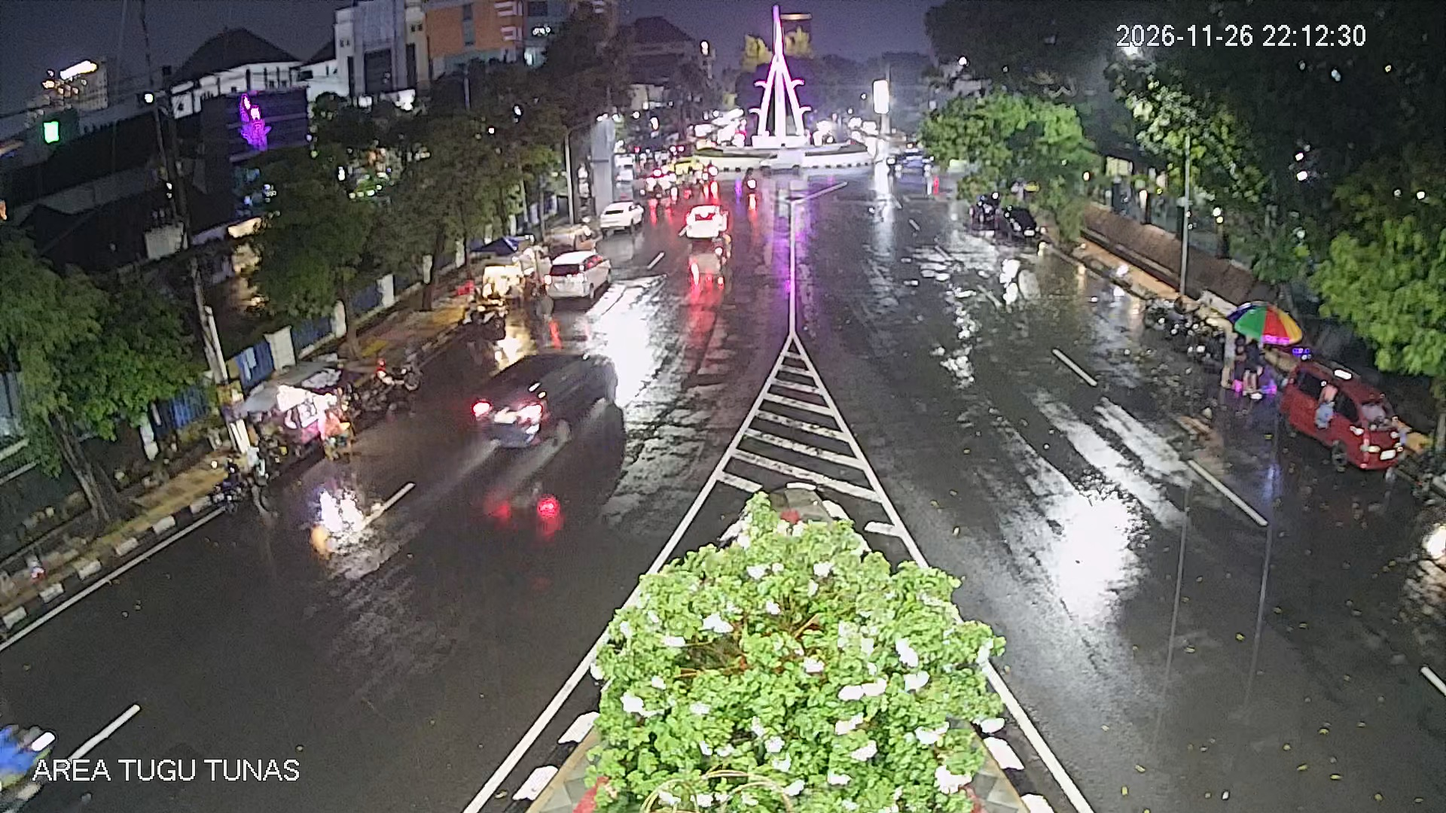Gerobak: (240, 364, 356, 459), (474, 247, 544, 306)
